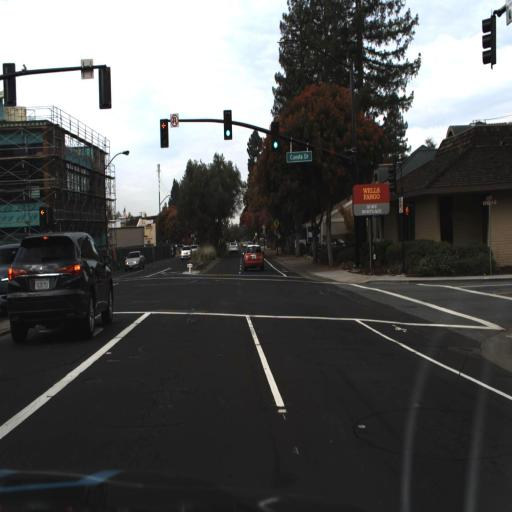car: (5, 229, 119, 345), (239, 241, 269, 275), (123, 248, 146, 272), (179, 244, 193, 262)
trafficLight-Green: (223, 110, 233, 141), (271, 125, 280, 152)
trafficLight-RedLeft: (159, 119, 170, 147), (38, 206, 47, 230)
